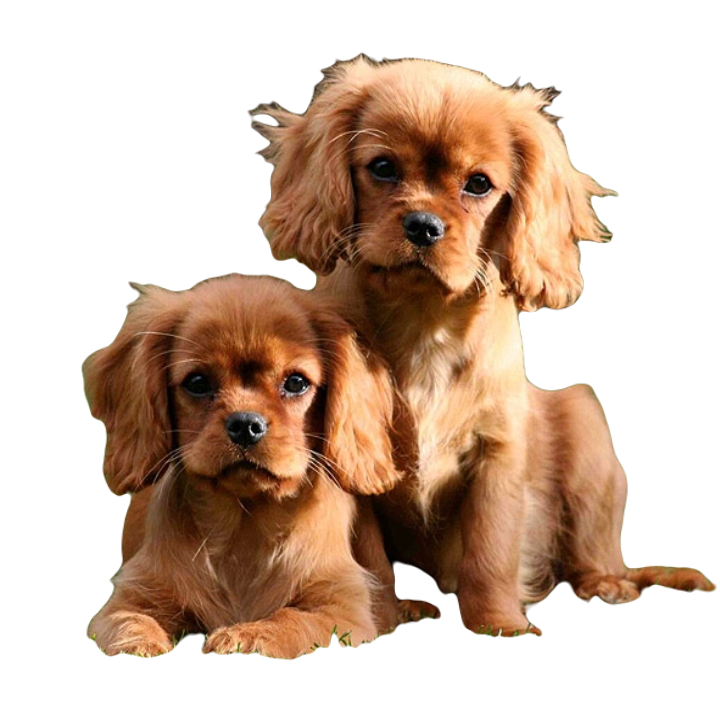Dog: (61, 261, 381, 661)
